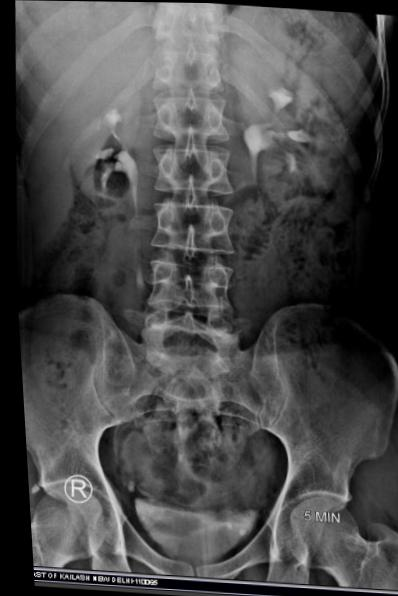bladder: (123, 495, 268, 581)
left kidney: (241, 49, 370, 228)
vertebrae: (154, 83, 242, 144)
